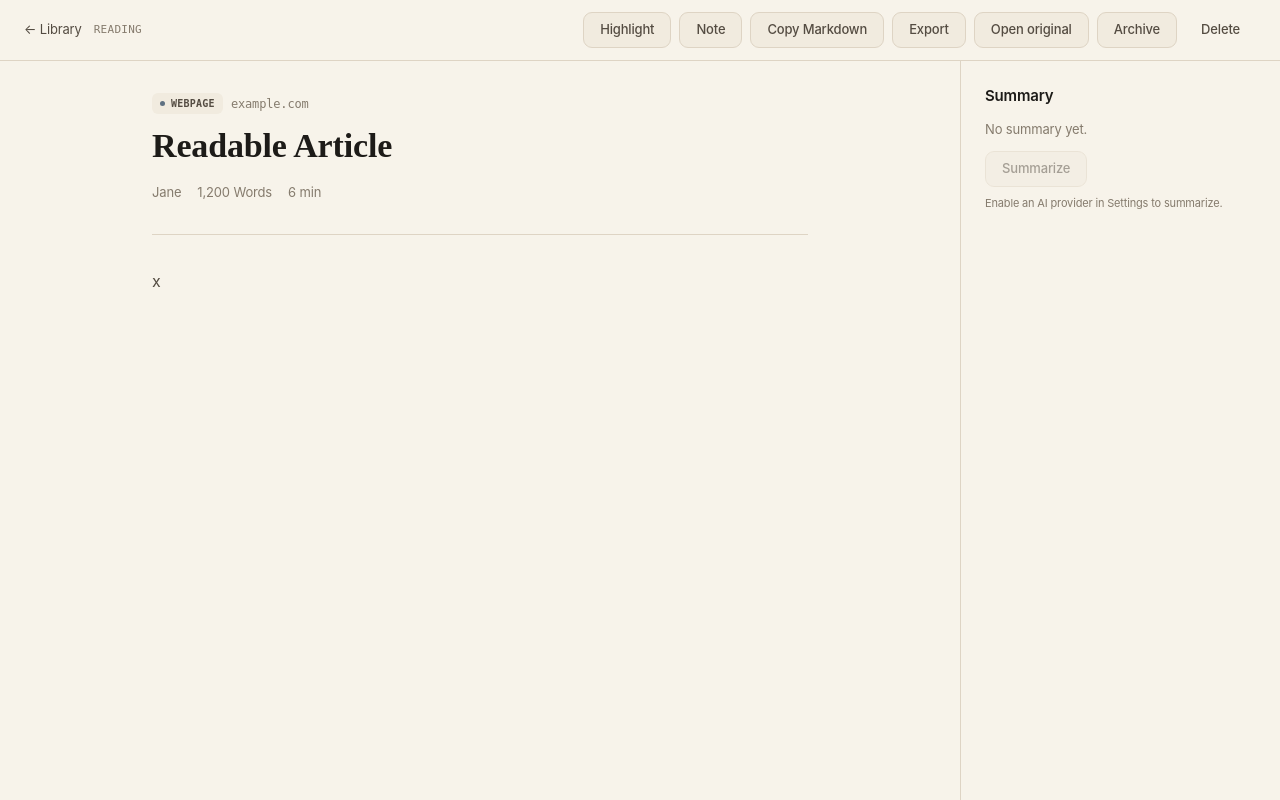
ReaderPage › exports the item and shows the produced path (TASK-046)
Click the button "Export": (929, 30) [892, 12, 966, 48]
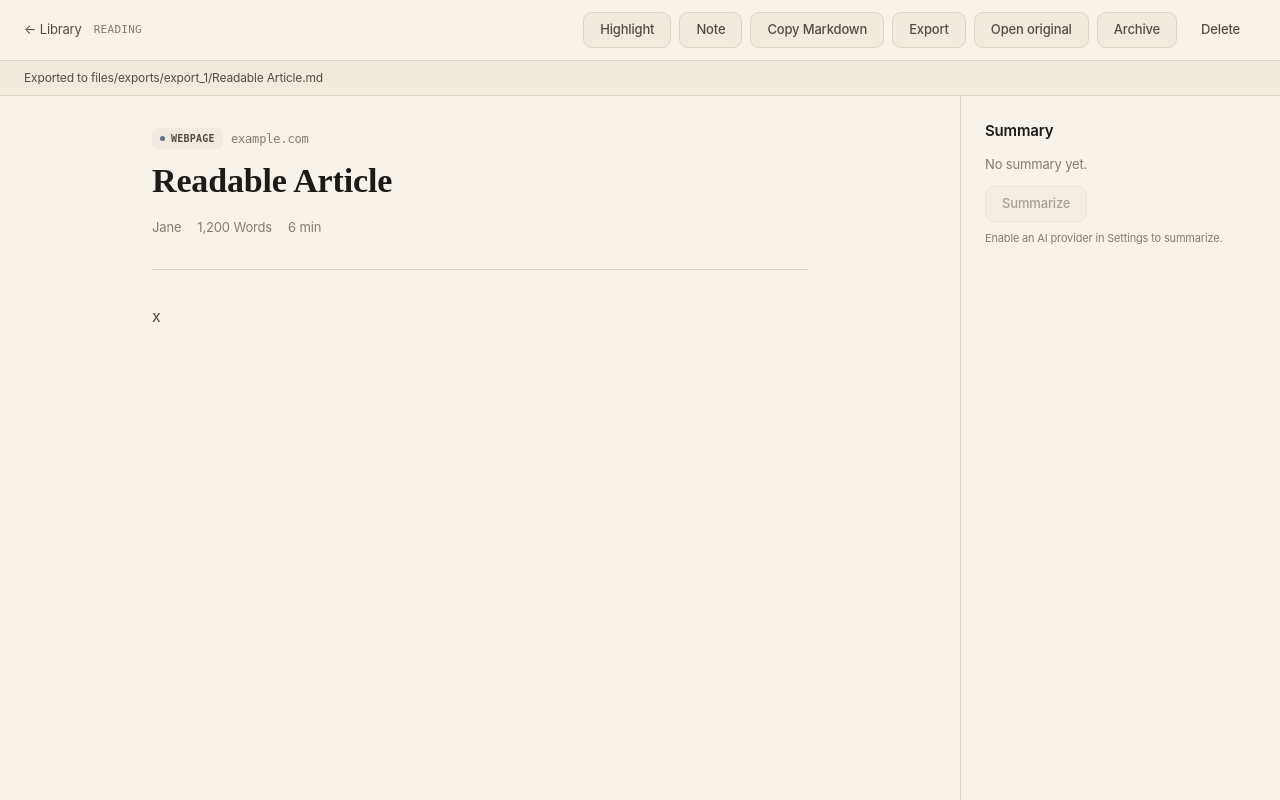
Result: the text "Exported to files/exports/export_1/Readable Article.md" is shown at [0, 61, 1279, 96]
